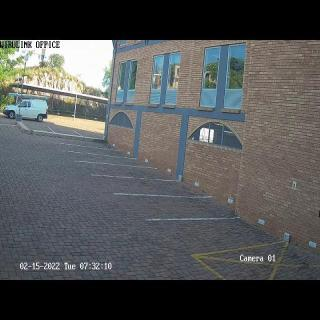car: (2, 98, 49, 122)
